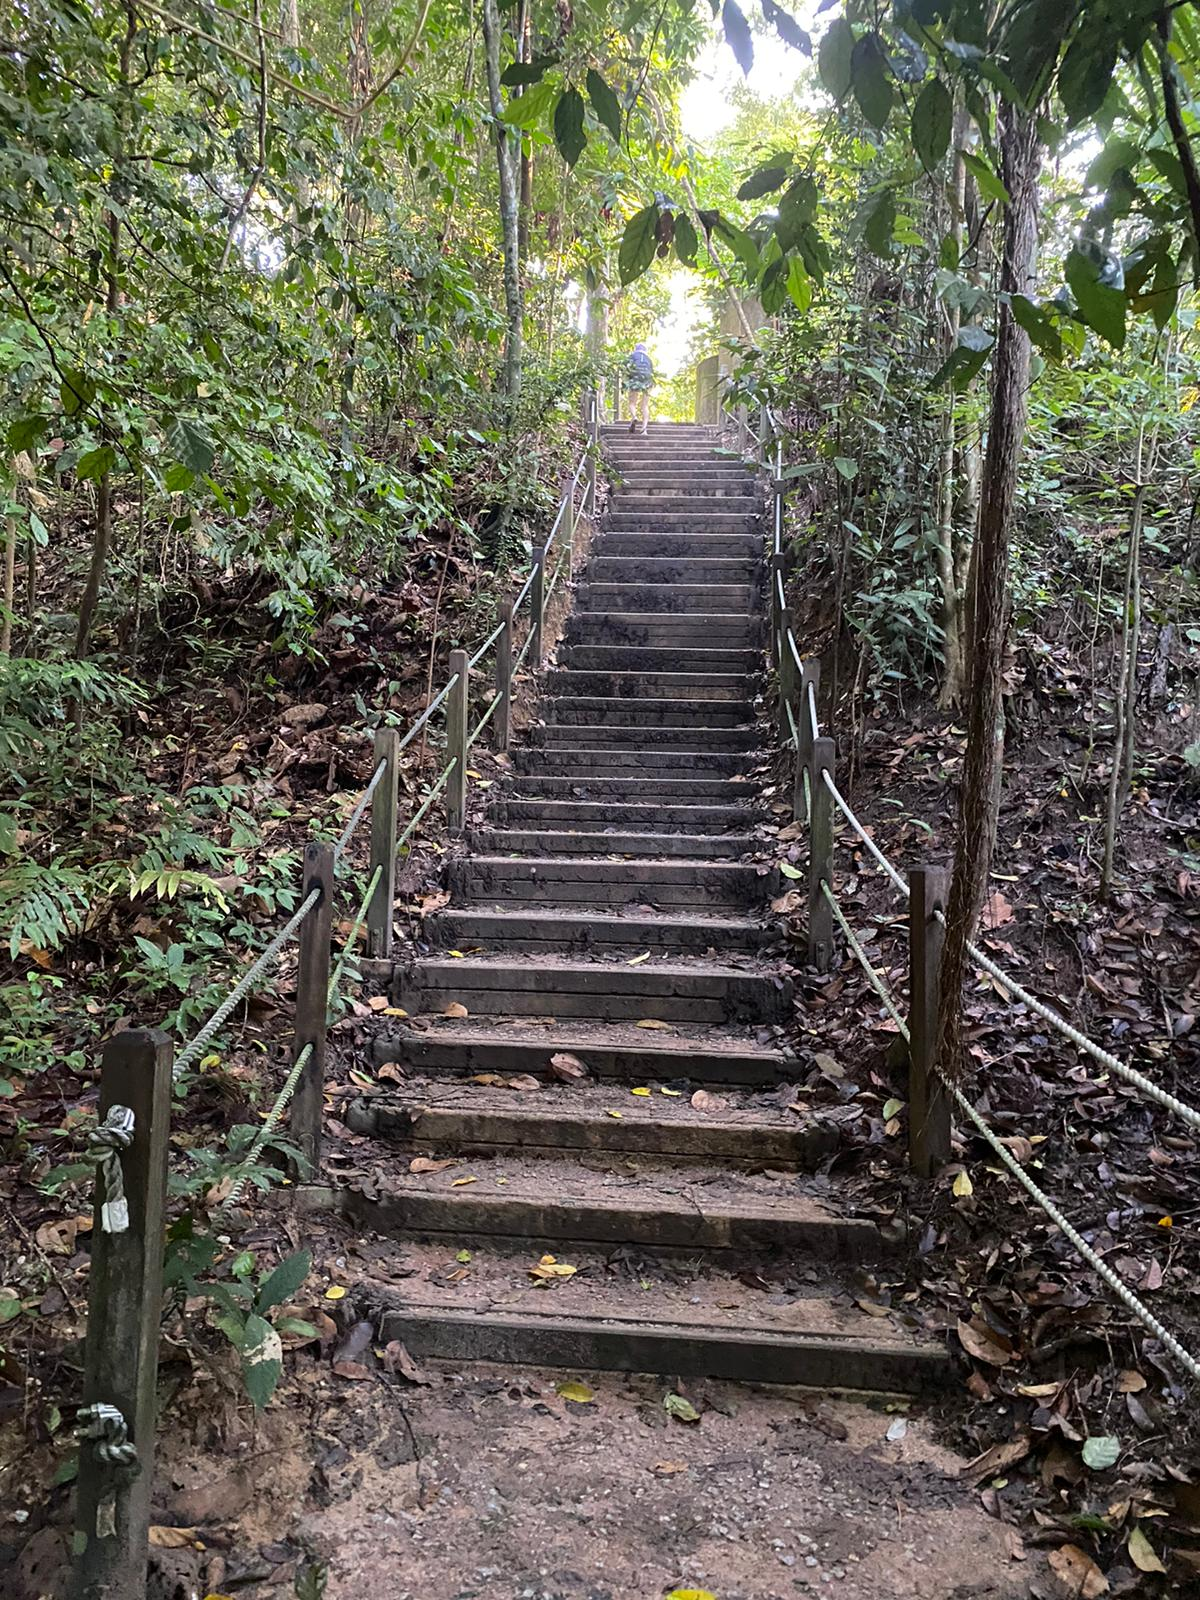upstairs: (363, 939, 839, 1443)
